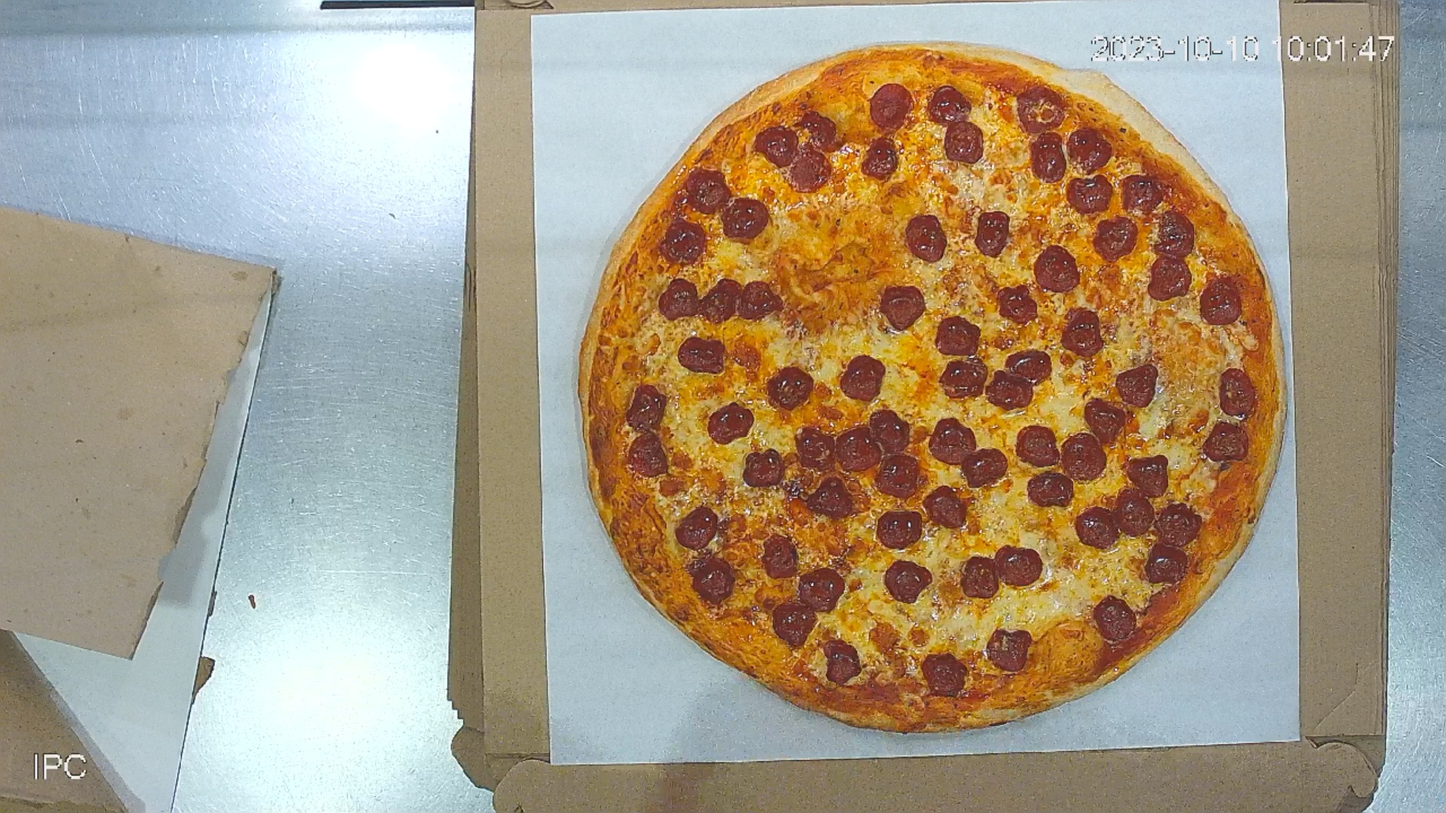pepperoni: (576, 41, 1289, 737)
